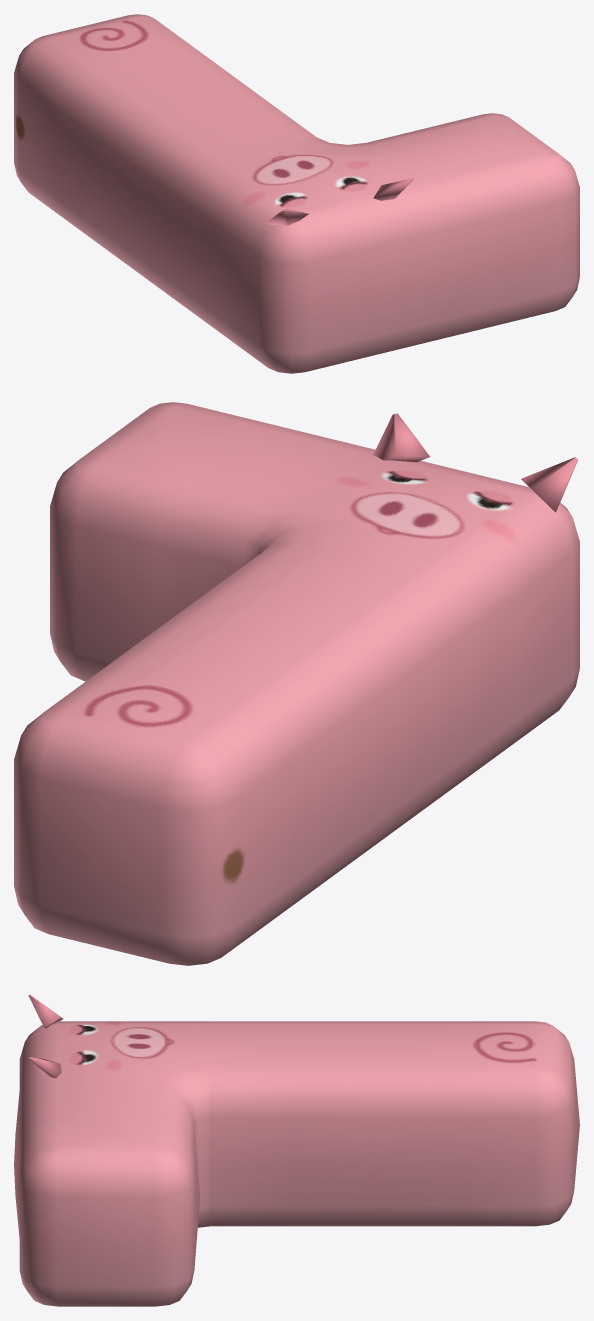
Rendered from Pig_L.fbx.
The picture shows the model from 3 angles, top to bottom: view 1: azimuth 30°, elevation 25°; view 2: azimuth 150°, elevation 25°; view 3: azimuth 270°, elevation 25°; orthographic projection. The views are drawn at different scales.
Visible parts, largest first — view 1: Pig_L; view 2: Pig_L; view 3: Pig_L.
Part boxes in pixels (x1,y1,x2,y2): Pig_L: (14,14,579,373); Pig_L: (14,402,579,965); Pig_L: (14,994,579,1306).
Bounding box in the file's own units: 1.98 × 0.9771 × 2.98.
Materials: 1 (1 with a texture image).
